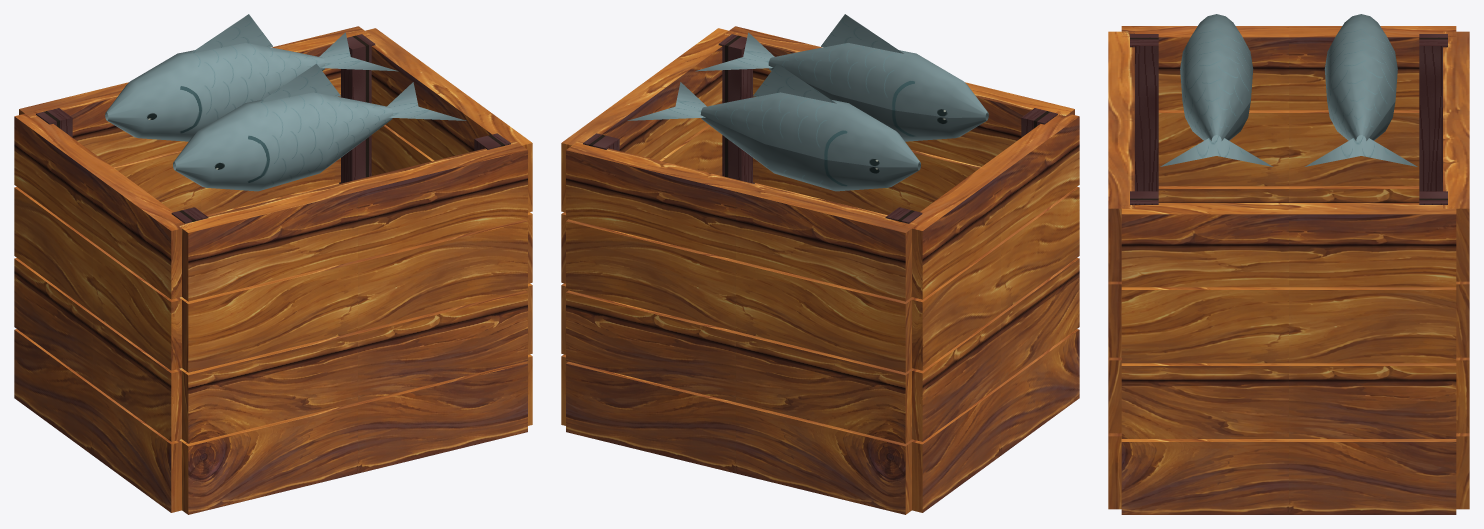
File: Fish_Crate.fbx
The picture shows the model from 3 angles, left to right: view 1: azimuth 30°, elevation 25°; view 2: azimuth 150°, elevation 25°; view 3: azimuth 270°, elevation 25°; orthographic projection. The views are drawn at different scales.
Parts seen in each view (by area): view 1: Crate long side board.022, Crate long side board.016, Crate long side board.018, Crate long side board.020, Crate short side board.022, Fish skin and gills, Fish skin and gills.001, Crate short side board.018, Crate short side board.016, Crate short side board.020, Crate short side board.023, Crate long side board.023 (+7 smaller); view 2: Crate long side board.023, Crate long side board.017, Crate long side board.019, Crate long side board.021, Crate short side board.022, Fish skin and gills.001, Fish skin and gills, Crate short side board.018, Crate short side board.016, Crate short side board.020, Crate short side board.023, Crate long side board.022 (+7 smaller); view 3: Crate short side board.023, Crate short side board.021, Crate short side board.017, Crate short side board.019, Crate short side board.020, Crate short side board.022, Fish skin and gills, Fish skin and gills.001, Crate long side board.023, Crate long side board.022, Crate short side board.018, Crate inside corner post.008 (+9 smaller).
Part boxes in pixels (x1,y1,x2,y2): Crate long side board.022: (177, 141, 527, 301); Crate long side board.016: (180, 361, 527, 514); Crate long side board.018: (179, 290, 527, 443); Crate long side board.020: (180, 219, 527, 372); Crate short side board.022: (14, 111, 191, 299); Fish skin and gills: (173, 92, 393, 191); Fish skin and gills.001: (105, 43, 325, 141); Crate short side board.018: (14, 258, 181, 441); Crate short side board.016: (14, 329, 181, 512); Crate short side board.020: (14, 187, 181, 370); Crate short side board.023: (355, 28, 532, 212); Crate long side board.023: (19, 26, 370, 166); Crate long side board.023: (566, 141, 917, 301); Crate long side board.017: (566, 361, 913, 514); Crate long side board.019: (566, 290, 914, 443); Crate long side board.021: (566, 219, 913, 372); Crate short side board.022: (902, 111, 1079, 299); Fish skin and gills.001: (700, 92, 920, 191); Fish skin and gills: (768, 43, 988, 141); Crate short side board.018: (912, 258, 1079, 441); Crate short side board.016: (912, 329, 1079, 512); Crate short side board.020: (912, 187, 1079, 370); Crate short side board.023: (561, 28, 738, 212); Crate long side board.022: (723, 26, 1074, 166); Crate short side board.023: (1121, 203, 1456, 287); Crate short side board.021: (1121, 287, 1456, 363); Crate short side board.017: (1121, 439, 1456, 514); Crate short side board.019: (1121, 363, 1456, 438); Crate short side board.020: (1158, 110, 1419, 186); Crate short side board.022: (1121, 26, 1456, 110); Fish skin and gills: (1180, 14, 1253, 140); Fish skin and gills.001: (1324, 14, 1397, 140); Crate long side board.023: (1443, 31, 1469, 281); Crate long side board.022: (1108, 31, 1134, 281); Crate short side board.018: (1158, 186, 1419, 202); Crate inside corner post.008: (1130, 34, 1158, 191).
Size of the model in its own units: 117 by 115 by 95.
